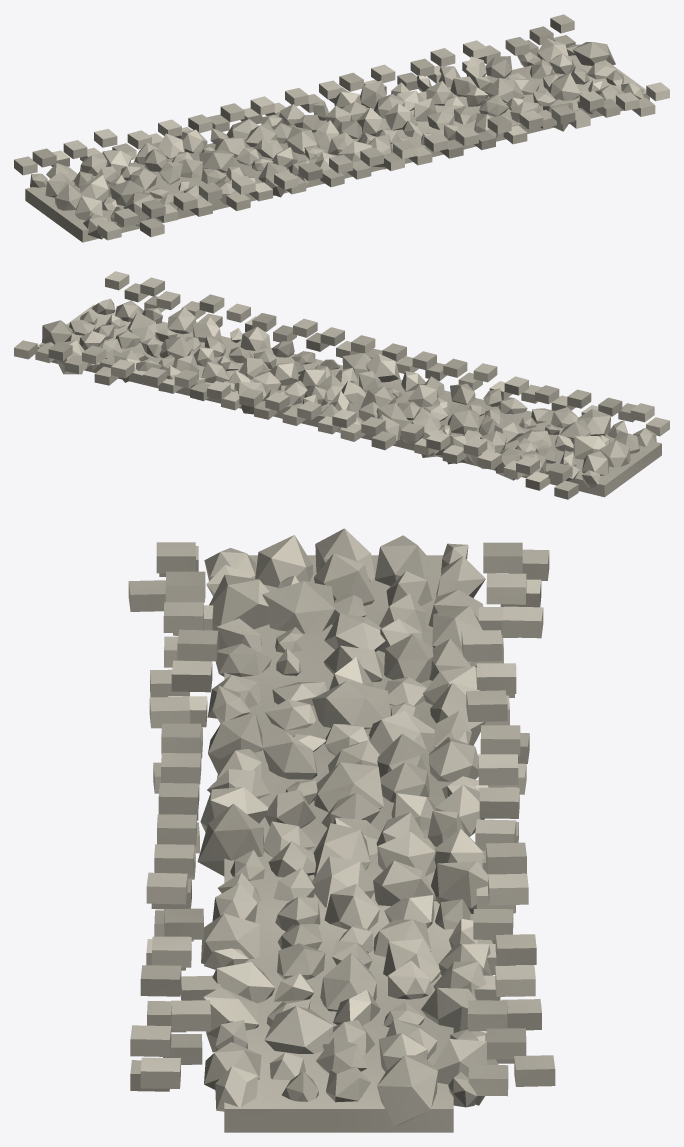
File: coral_path.glb
The picture shows the model from 3 angles, top to bottom: view 1: azimuth 30°, elevation 25°; view 2: azimuth 150°, elevation 25°; view 3: azimuth 270°, elevation 25°; orthographic projection. The views are drawn at different scales.
Parts seen in each view (by area): view 1: coral_path; view 2: coral_path; view 3: coral_path.
Boxes of the visible parts, box(x1,y1,x2,y2) form: coral_path: box(14, 14, 669, 242); coral_path: box(14, 271, 669, 499); coral_path: box(128, 528, 555, 1132).
Size of the model in its own units: 8.12 by 0.5039 by 2.6.
1 material, 1 textured.
